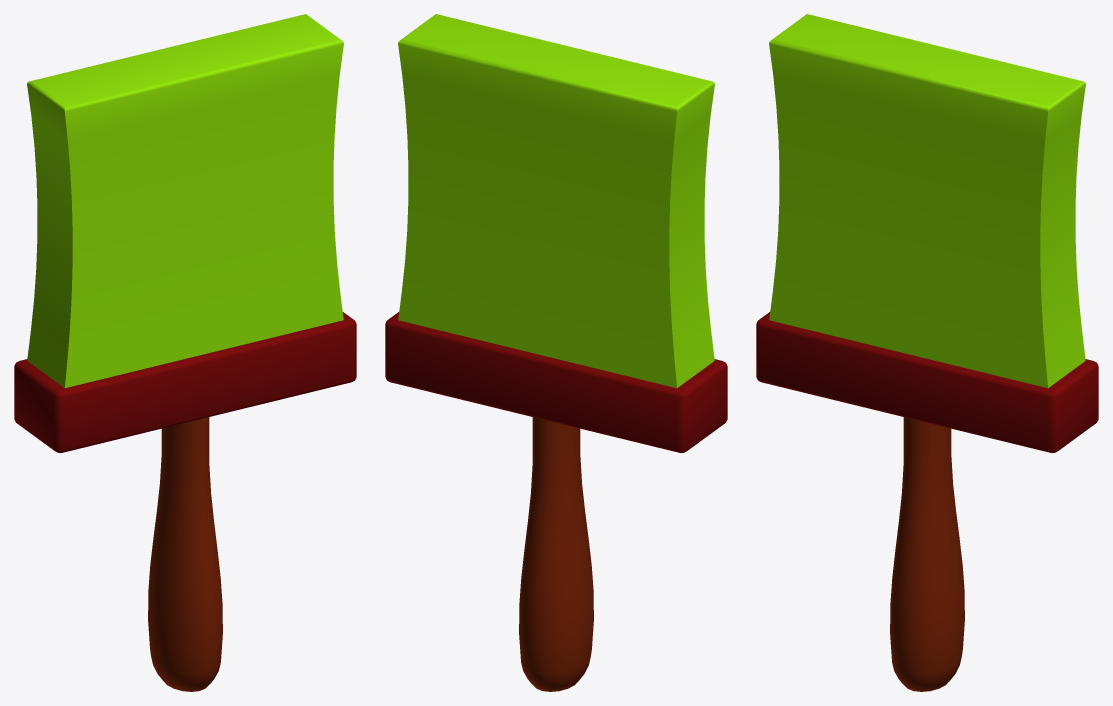
File: frca.fbx
3 views of the same model, side by side, from view 1: azimuth 30°, elevation 25°; view 2: azimuth 150°, elevation 25°; view 3: azimuth 330°, elevation 25° (orthographic).
Parts seen in each view (by area): view 1: Paintbrush.001; view 2: Paintbrush.001; view 3: Paintbrush.001.
Part boxes in pixels (x1,y1,x2,y2): Paintbrush.001: (14, 14, 356, 691); Paintbrush.001: (385, 14, 727, 691); Paintbrush.001: (756, 14, 1098, 691).
Size of the model in its own units: 249 by 490 by 66.04.
